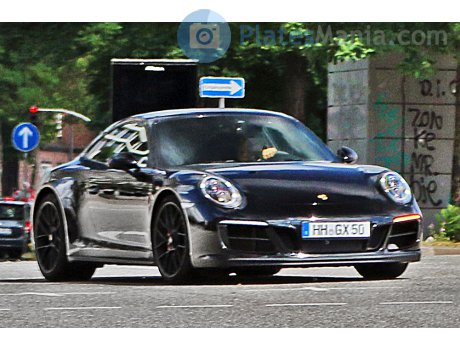License Plates: (306, 224, 365, 232)
